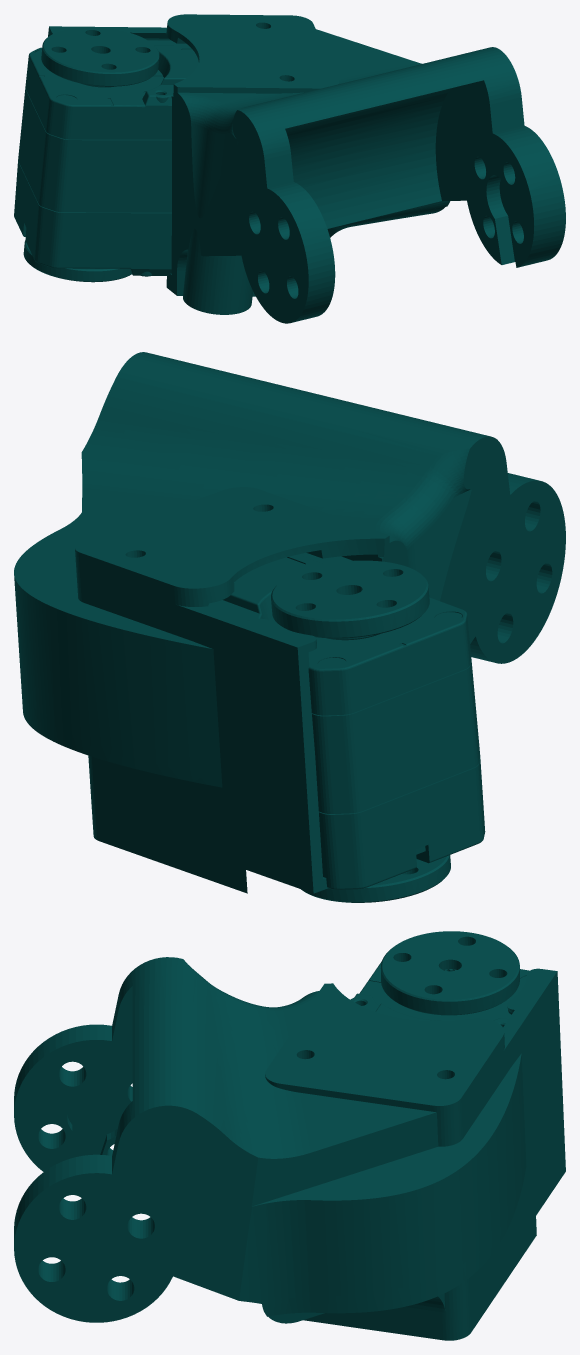
The model's file is leg_right_hip_yaw_visuals.obj.
The picture shows the model from 3 angles, top to bottom: view 1: azimuth 30°, elevation 25°; view 2: azimuth 150°, elevation 25°; view 3: azimuth 270°, elevation 25°; orthographic projection. The views are drawn at different scales.
Bounding box in the file's own units: 0.0683 × 0.044 × 0.0762.
